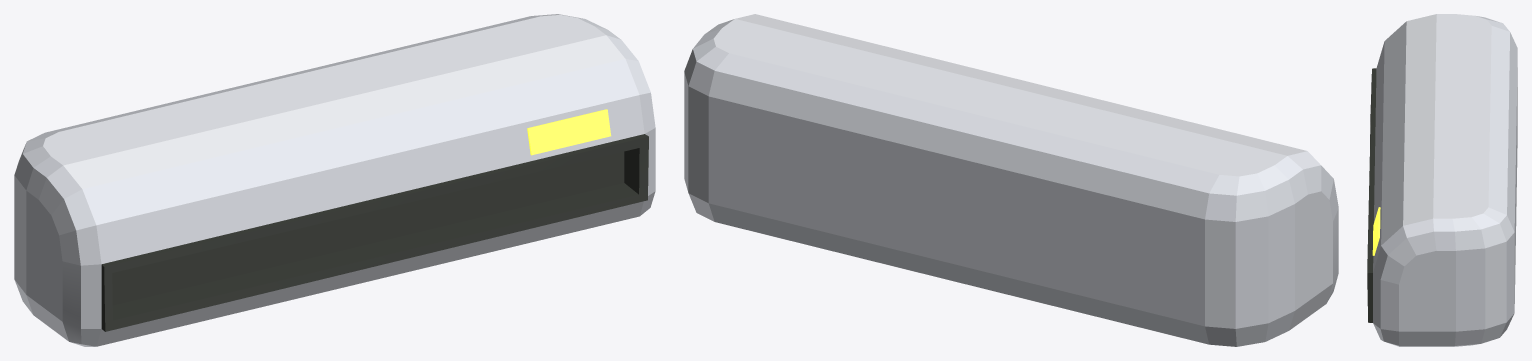
Rendered from Air_Conditioning_Unit.glb.
The picture shows the model from 3 angles, left to right: view 1: azimuth 30°, elevation 25°; view 2: azimuth 150°, elevation 25°; view 3: azimuth 270°, elevation 25°; orthographic projection. The views are drawn at different scales.
Visible parts, largest first — view 1: Aircon; view 2: Aircon; view 3: Aircon.
Part boxes in pixels (left/top/right/bottom): Aircon: left=14, top=14, right=655, bottom=346; Aircon: left=684, top=14, right=1338, bottom=346; Aircon: left=1367, top=14, right=1517, bottom=346.
Size of what is drawn, in the model's own units: 2.46 by 0.6624 by 0.7053.
Materials: 1 (1 with a texture image).
